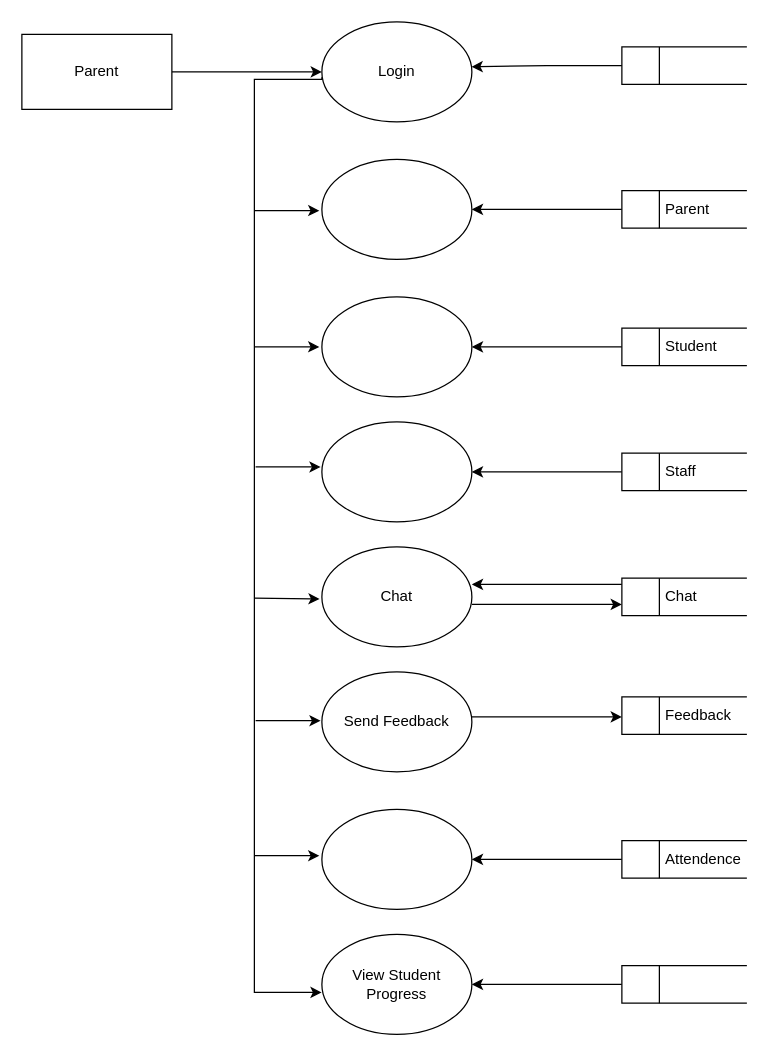
The diagram is 769 pixels wide and 1056 high, and some of its shapes have lost their labels. The centre of each missing label's shape, as x and y in pixels:
"auth_user" belongs at (x=684, y=65).
"Progresscard" belongs at (x=684, y=983).
"View Profile" belongs at (x=396, y=208).
"View Staff" belongs at (x=396, y=471).
"View Student" belongs at (x=396, y=346).
"View Student Attendence" belongs at (x=396, y=858).
